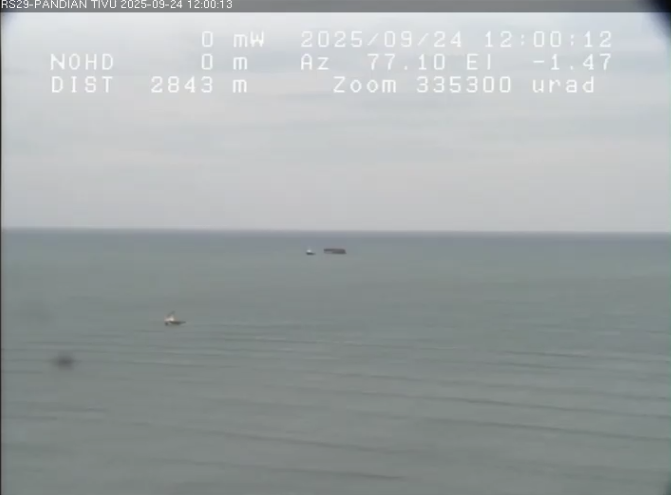BARGE: (322, 244, 357, 257)
FISHING_BOAT: (150, 308, 189, 335)
OFFSHORE_SUPPLY_VESSEL: (302, 243, 317, 256)
TOWING: (286, 225, 378, 278)
